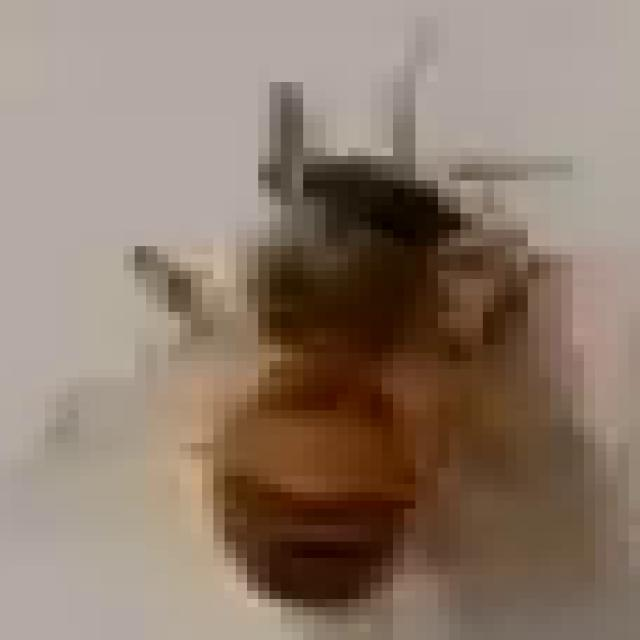honeybee: (154, 135, 514, 598)
